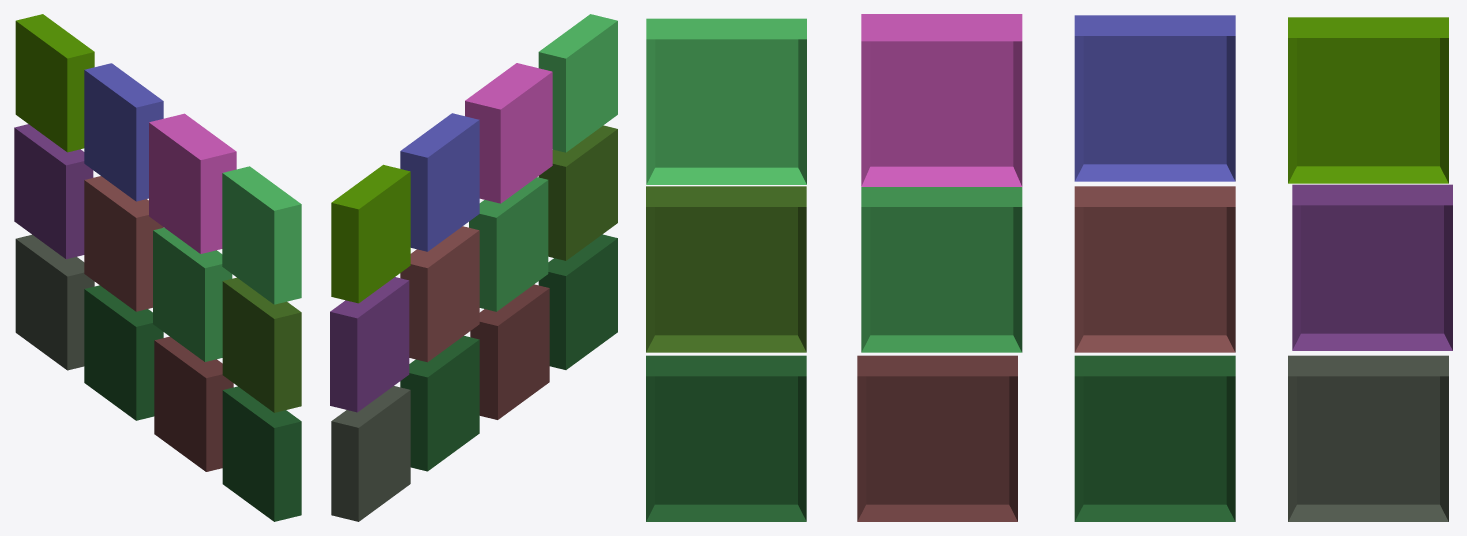
Rendered from ShelvesTest3.fbx.
3 renders of one model, left to right at view 1: azimuth 30°, elevation 25°; view 2: azimuth 150°, elevation 25°; view 3: azimuth 270°, elevation 25°, orthographic. The views are drawn at different scales.
Parts seen in each view (by area): view 1: pCube2, pCube1, pCube9, pCube5, pCube4, pCube3, pCube11, pCube12, pCube8, pCube10, pCube7, pCube6; view 2: pCube2, pCube4, pCube12, pCube8, pCube3, pCube1, pCube7, pCube10, pCube11, pCube9, pCube6, pCube5; view 3: pCube2, pCube3, pCube7, pCube11, pCube6, pCube1, pCube4, pCube5, pCube8, pCube9, pCube10, pCube12.
Part boxes in pixels (<box>): pCube2: <box>149,113,236,253</box>; pCube1: <box>222,166,301,304</box>; pCube9: <box>222,386,301,521</box>; pCube5: <box>222,277,301,412</box>; pCube4: <box>15,14,94,152</box>; pCube3: <box>84,63,163,201</box>; pCube11: <box>84,285,163,420</box>; pCube12: <box>15,234,94,370</box>; pCube8: <box>14,124,93,259</box>; pCube10: <box>154,336,233,471</box>; pCube7: <box>84,176,163,311</box>; pCube6: <box>153,227,232,361</box>; pCube2: <box>465,63,552,203</box>; pCube4: <box>331,164,410,303</box>; pCube12: <box>331,386,410,521</box>; pCube8: <box>330,277,409,412</box>; pCube3: <box>400,113,479,251</box>; pCube1: <box>538,14,617,152</box>; pCube7: <box>400,226,479,362</box>; pCube10: <box>470,284,549,419</box>; pCube11: <box>400,336,479,471</box>; pCube9: <box>538,234,617,369</box>; pCube6: <box>469,177,548,311</box>; pCube5: <box>538,125,617,260</box>; pCube2: <box>861,14,1022,186</box>; pCube3: <box>1074,15,1235,181</box>; pCube7: <box>1074,186,1235,352</box>; pCube11: <box>1074,355,1235,521</box>; pCube6: <box>861,187,1022,352</box>; pCube1: <box>646,18,806,184</box>; pCube4: <box>1288,17,1448,183</box>; pCube5: <box>646,186,806,352</box>; pCube8: <box>1292,184,1452,350</box>; pCube9: <box>646,355,806,521</box>; pCube10: <box>857,355,1017,521</box>; pCube12: <box>1288,355,1448,521</box>.
Size of the model in its own units: 6 by 50.02 by 75.29.
